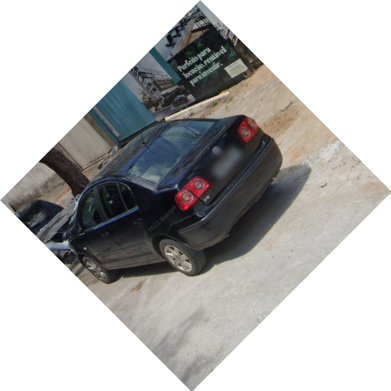car: (66, 112, 285, 285)
